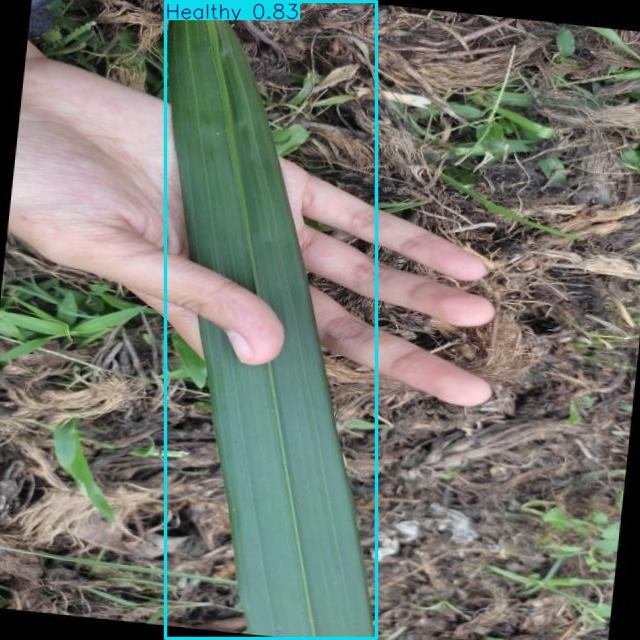Healthy: (165, 1, 376, 638)
